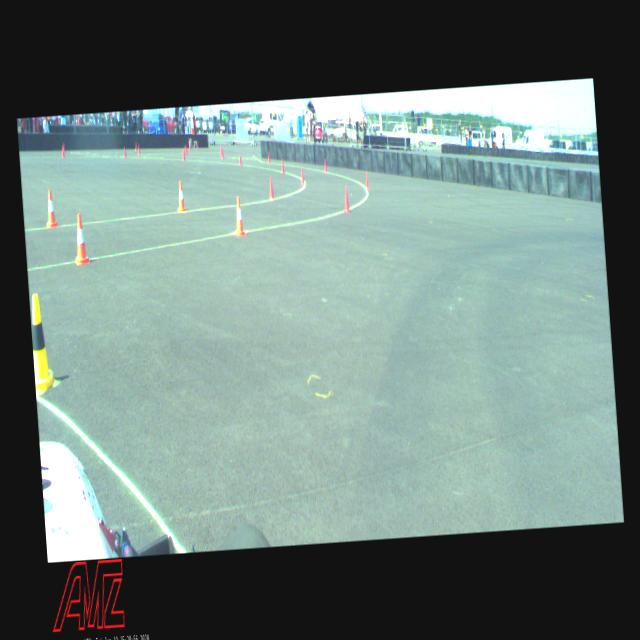orange_cone: (72, 213, 90, 265), (44, 188, 58, 228), (232, 196, 245, 236), (174, 180, 186, 212)
unknown_cone: (342, 185, 350, 212), (267, 176, 274, 198), (364, 170, 370, 190), (300, 166, 304, 185), (280, 158, 284, 174), (60, 144, 64, 158), (238, 152, 242, 165), (323, 158, 326, 172), (267, 150, 270, 163), (183, 144, 186, 156), (123, 146, 126, 158), (220, 148, 223, 159), (184, 143, 187, 154), (137, 143, 140, 154), (219, 144, 222, 154), (134, 141, 137, 151), (182, 147, 184, 160), (63, 142, 65, 152)
yellow_cone: (29, 292, 58, 393)
